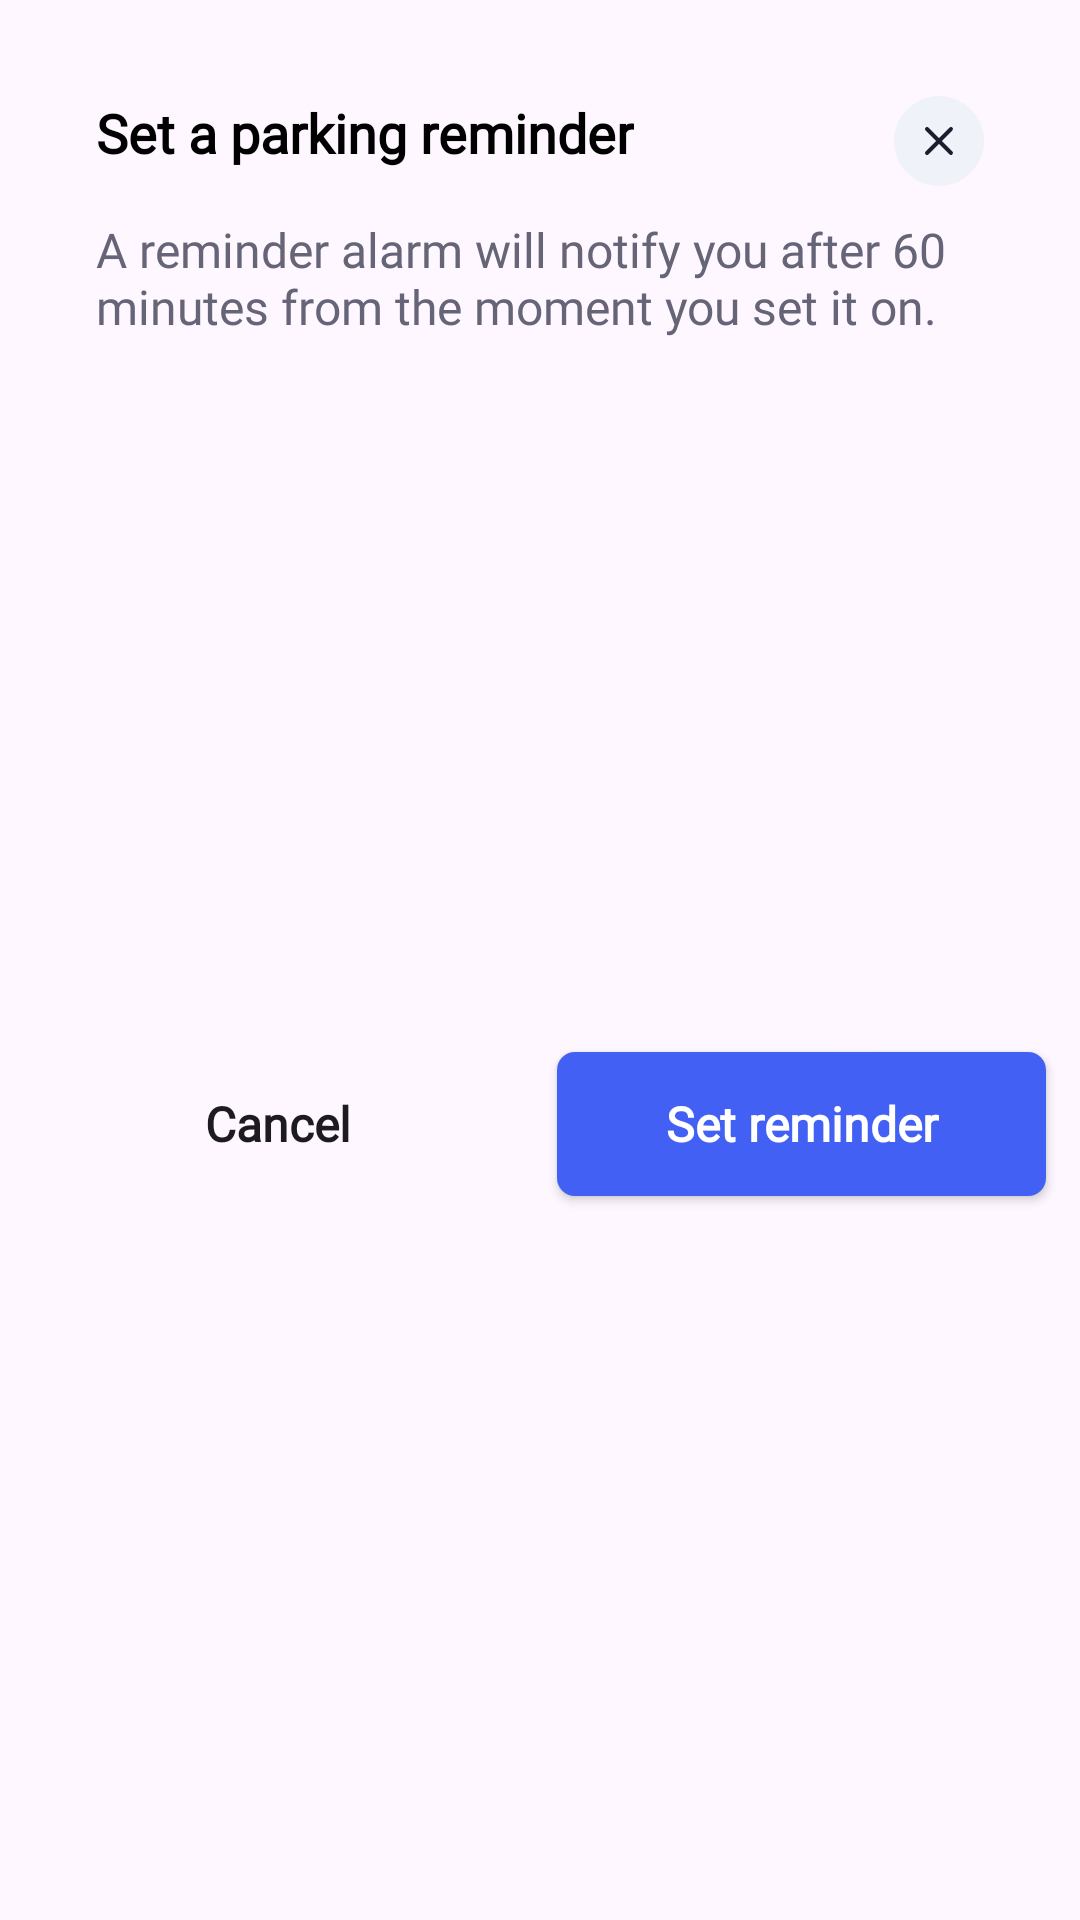

Named icons in this screenshot (1080*1920) and their centers, (x=x, y=y):
close: (x=939, y=141)
